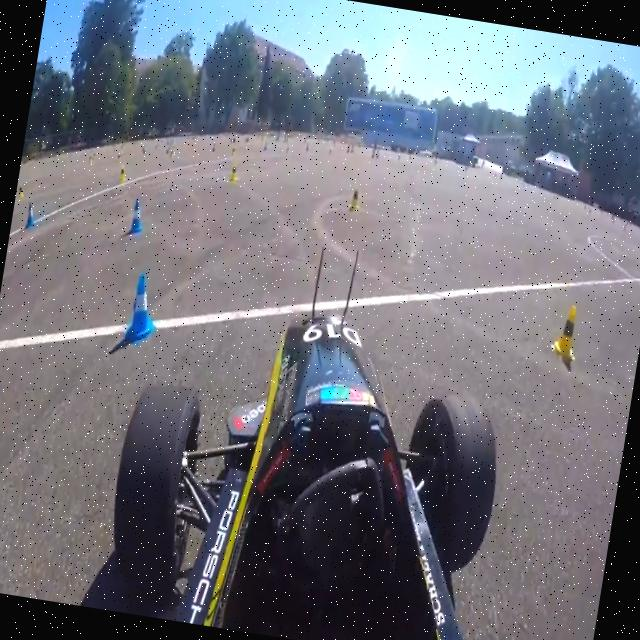blue_cone: (112, 270, 164, 343), (124, 195, 155, 238)
yellow_cone: (550, 302, 584, 361), (343, 178, 364, 210)
